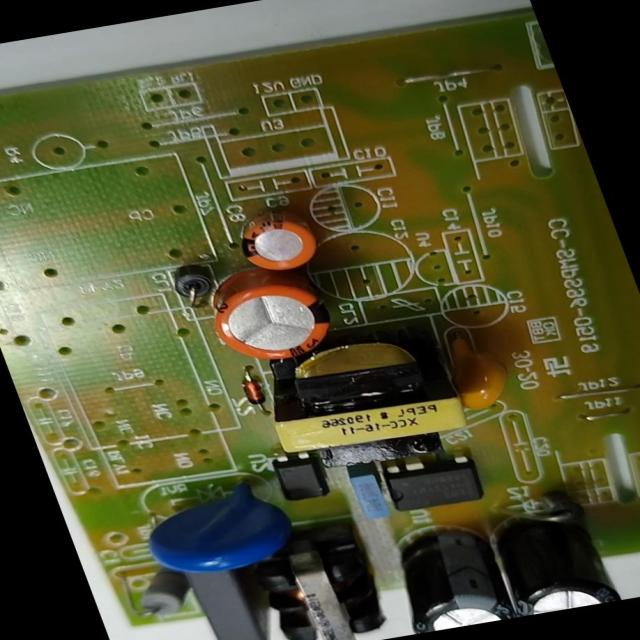Cap1: (188, 257, 351, 371)
Cap2: (218, 193, 342, 280)
Cap3: (462, 492, 640, 620)
Cap4: (375, 520, 533, 635)
MOSFET: (378, 449, 492, 518)
Mov: (110, 470, 315, 587)
Resistor: (110, 560, 216, 629)
Transformer: (243, 308, 497, 466), (236, 512, 406, 640)
